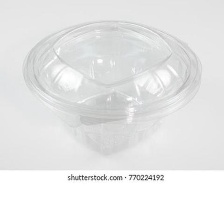plastic_box: (15, 13, 207, 161)
